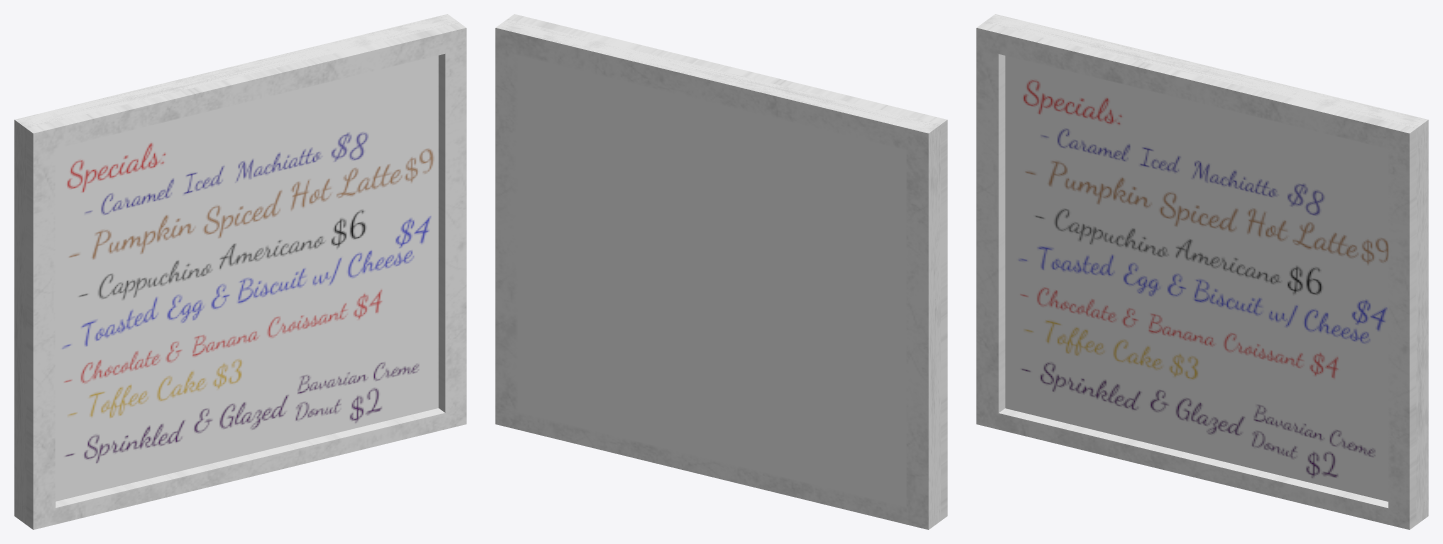
The model's file is MMM_Cafe_Whiteboard.fbx.
3 views of the same model, side by side, from view 1: azimuth 30°, elevation 25°; view 2: azimuth 150°, elevation 25°; view 3: azimuth 330°, elevation 25° (orthographic).
Visible parts, largest first — view 1: Whiteboard; view 2: Whiteboard; view 3: Whiteboard.
Boxes of the visible parts, bbox=[...] form: Whiteboard: bbox=[14, 14, 466, 529]; Whiteboard: bbox=[495, 14, 947, 529]; Whiteboard: bbox=[976, 14, 1428, 529].
Bounding box in the file's own units: 239 × 209 × 18.01.
Materials: 1 (1 with a texture image).
